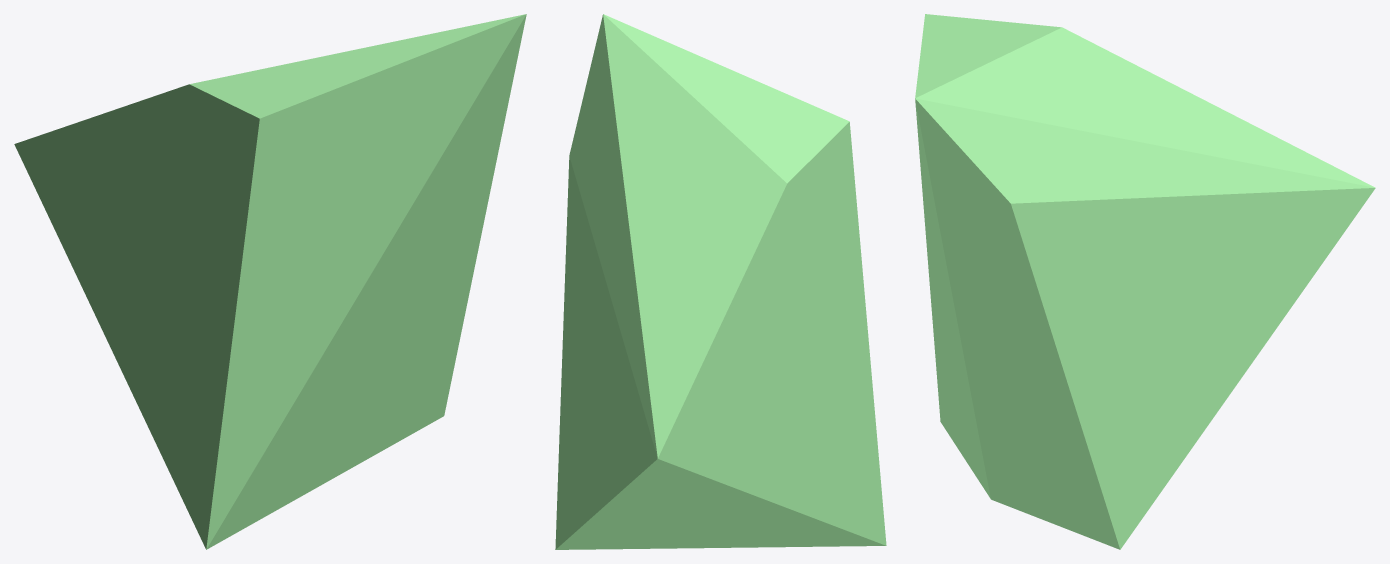
Rendered from UMIRobot_UMIRobot_link_5_convex_coll_54.dae.
3 views of the same model, side by side, from view 1: azimuth 30°, elevation 25°; view 2: azimuth 150°, elevation 25°; view 3: azimuth 270°, elevation 25° (orthographic). The views are drawn at different scales.
Parts seen in each view (by area): view 1: node; view 2: node; view 3: node.
Boxes of the visible parts, bbox=[...] form: node: bbox=[14, 14, 526, 549]; node: bbox=[555, 14, 886, 549]; node: bbox=[915, 14, 1375, 549].
Size of the model in its own units: 0.00229 by 0.00335 by 0.00293.
